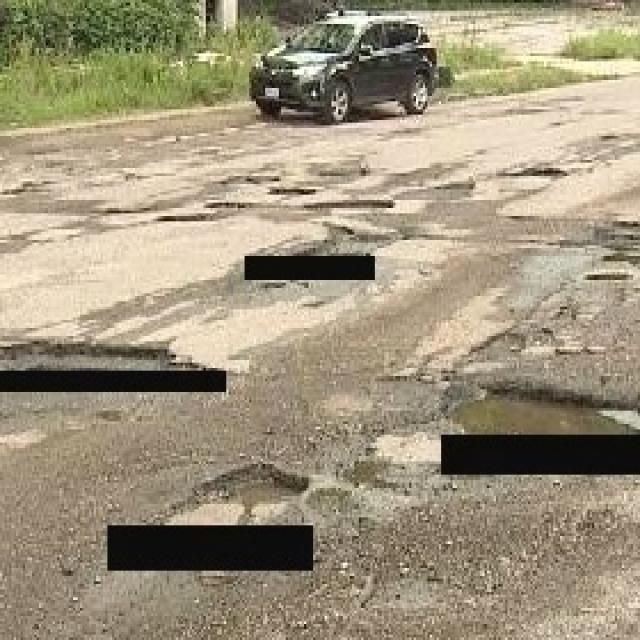road-pothole: (424, 369, 638, 437), (152, 451, 323, 528), (0, 340, 199, 373), (579, 214, 638, 285)
